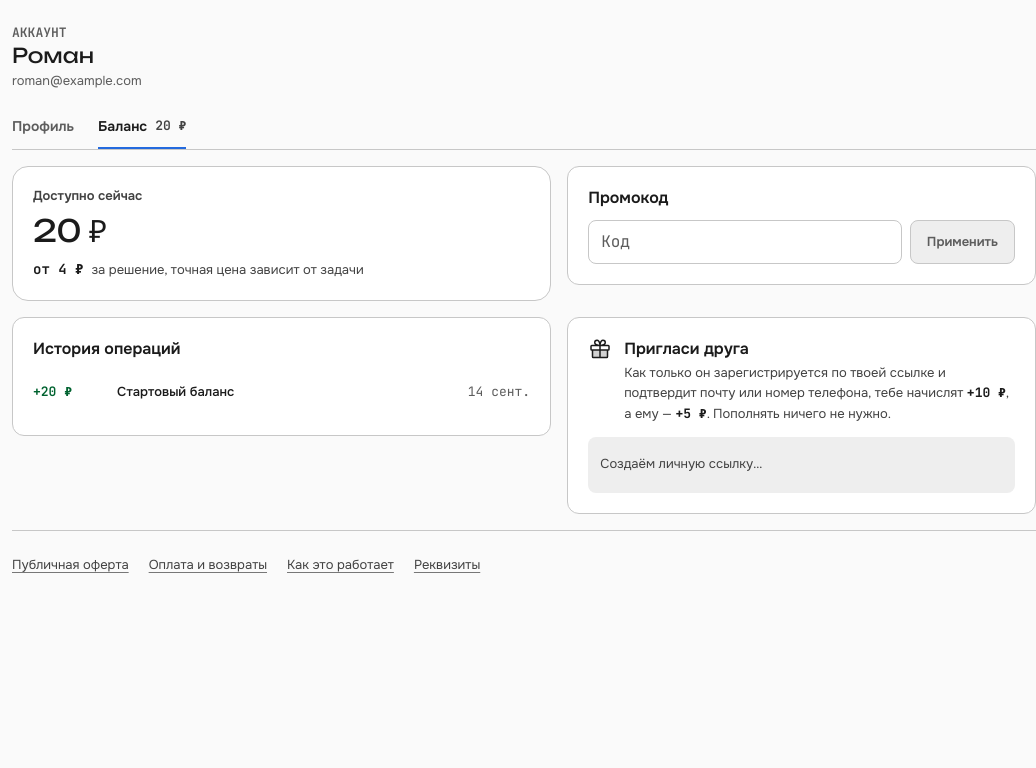
it: BalancePage › announces a wrong promo code as an error
Step 1. Type "nope" into the field named "Промокод" → [745, 242], box [588,220,902,264]
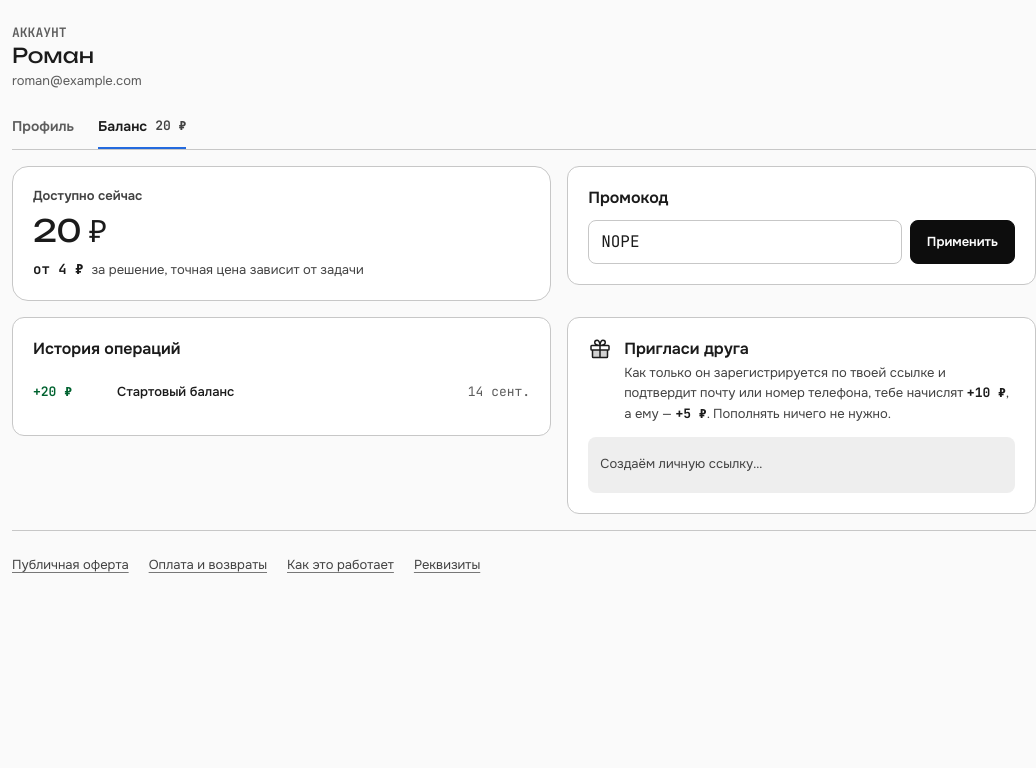
Step 2. Click the button "Применить" → [962, 242], box [910,220,1015,264]
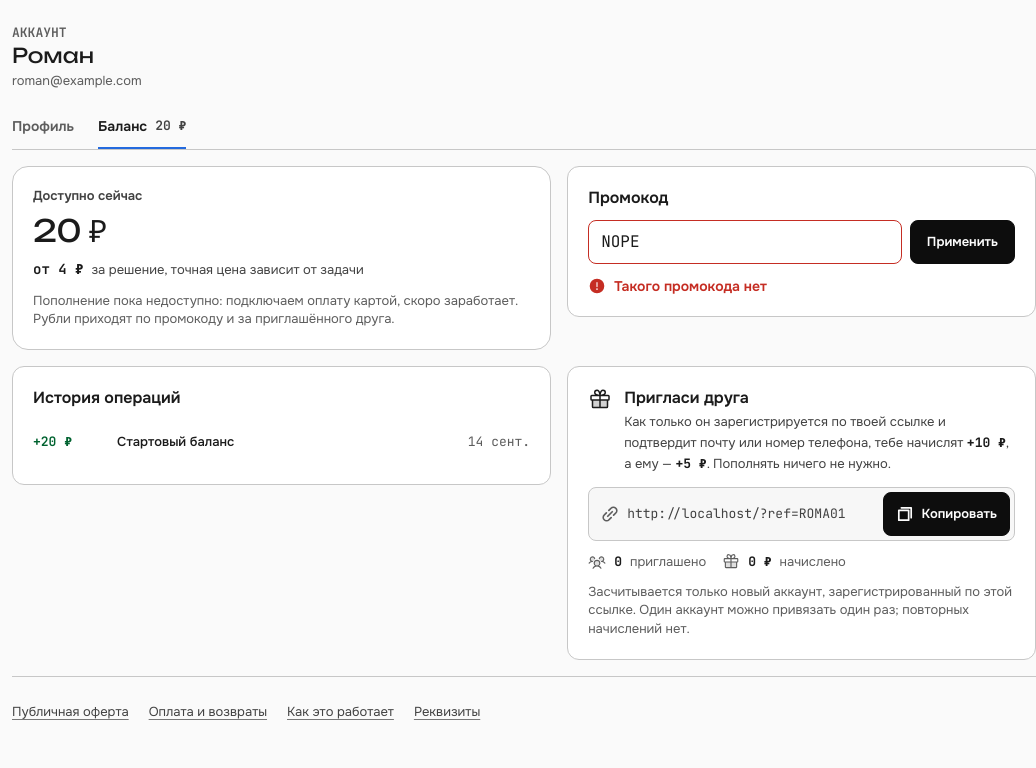
Expected: the message reads "Такого промокода нет", [614,277,767,295]
